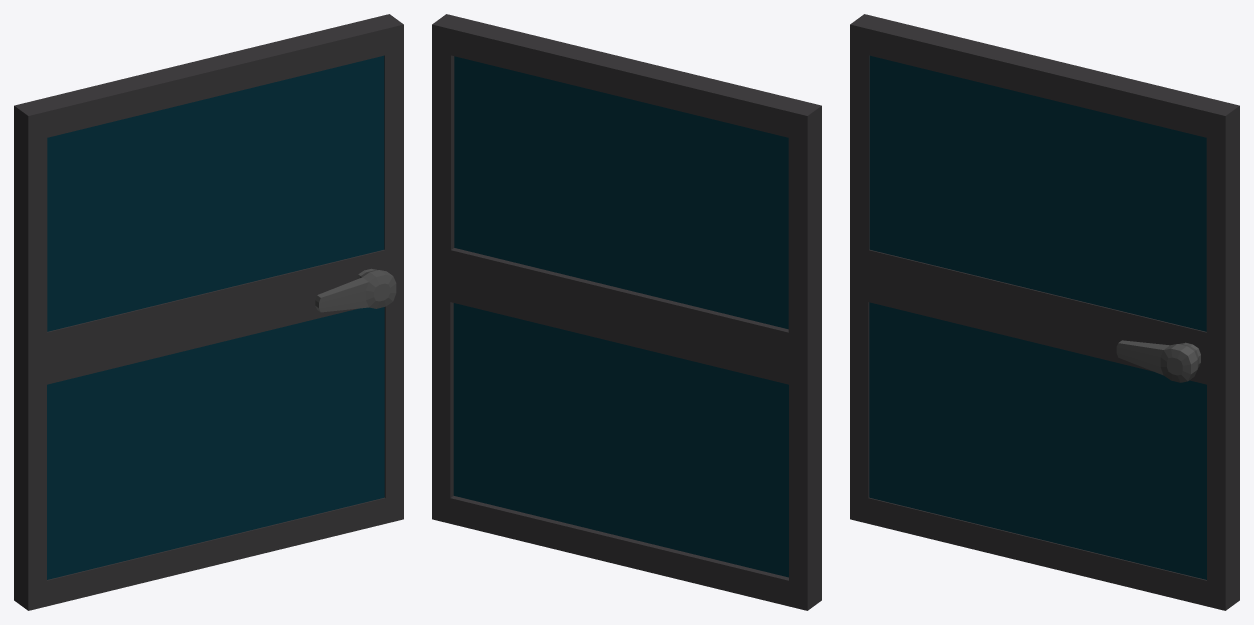
File: GameGridSlidingDOOR.fbx
The picture shows the model from 3 angles, left to right: view 1: azimuth 30°, elevation 25°; view 2: azimuth 150°, elevation 25°; view 3: azimuth 330°, elevation 25°; orthographic projection.
Parts seen in each view (by area): view 1: SlidingDoorFrame; view 2: SlidingDoorFrame; view 3: SlidingDoorFrame.
Boxes of the visible parts, left/top/right/bottom form: SlidingDoorFrame: left=14, top=14, right=403, bottom=610; SlidingDoorFrame: left=432, top=14, right=821, bottom=610; SlidingDoorFrame: left=850, top=14, right=1239, bottom=610.
Bounding box in the file's own units: 215 × 271 × 28.66.
